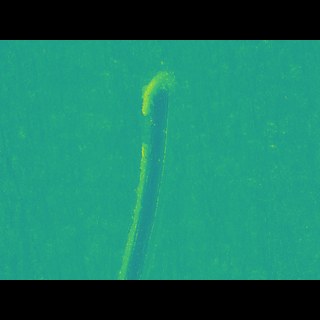Loch: (112, 89, 180, 250)
